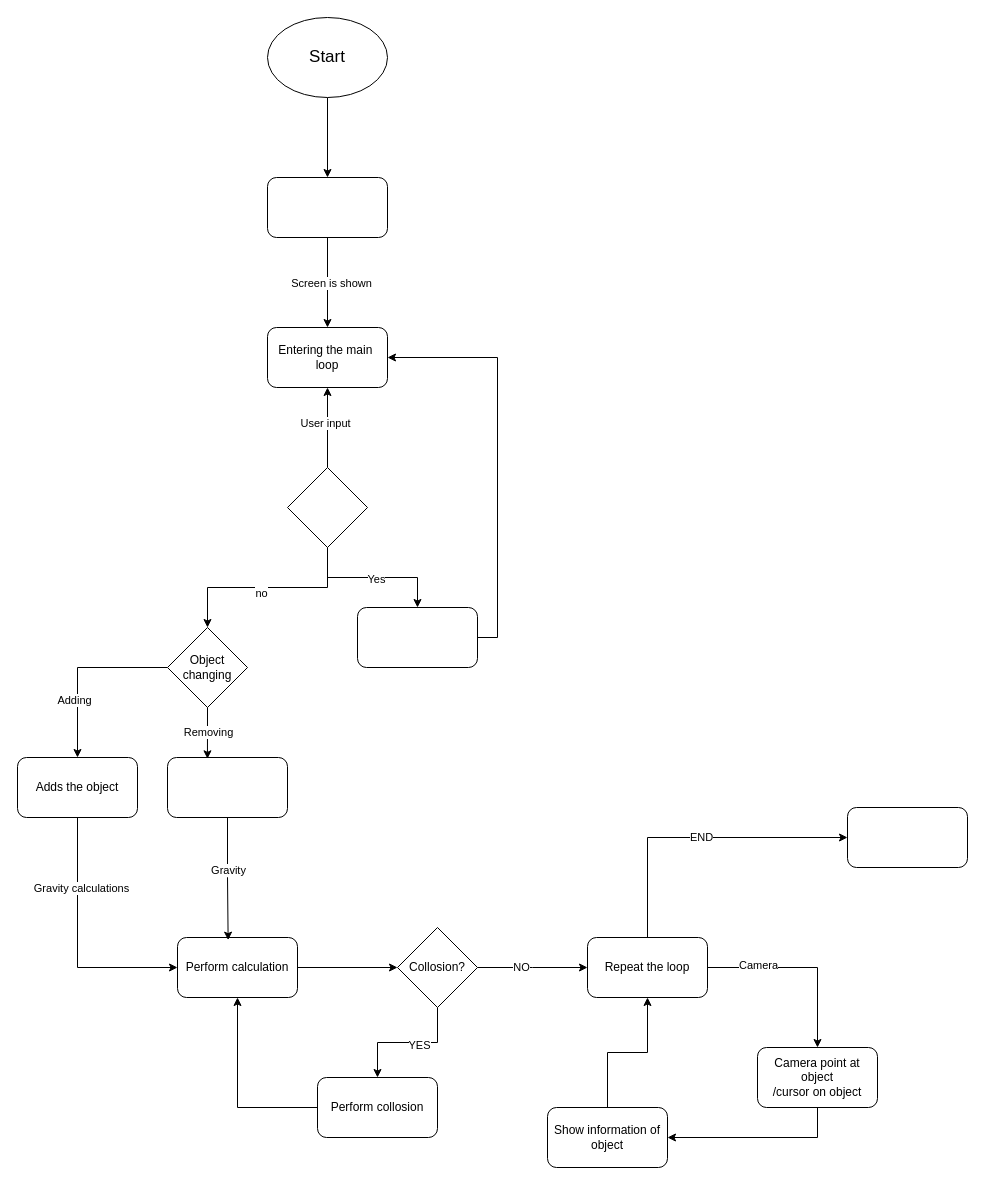
Image size: 985x1185. Some labels were removed from this diagram. The shapes that lost their labels are listed below. From the top down, each one's centre as x and y in pixels, then its label:
At (327,207): "Initialize simulation".
At (327,507): "if invalid".
At (417,637): "Error".
At (227,787): "Removes the object".
At (907,837): "End simulation".
